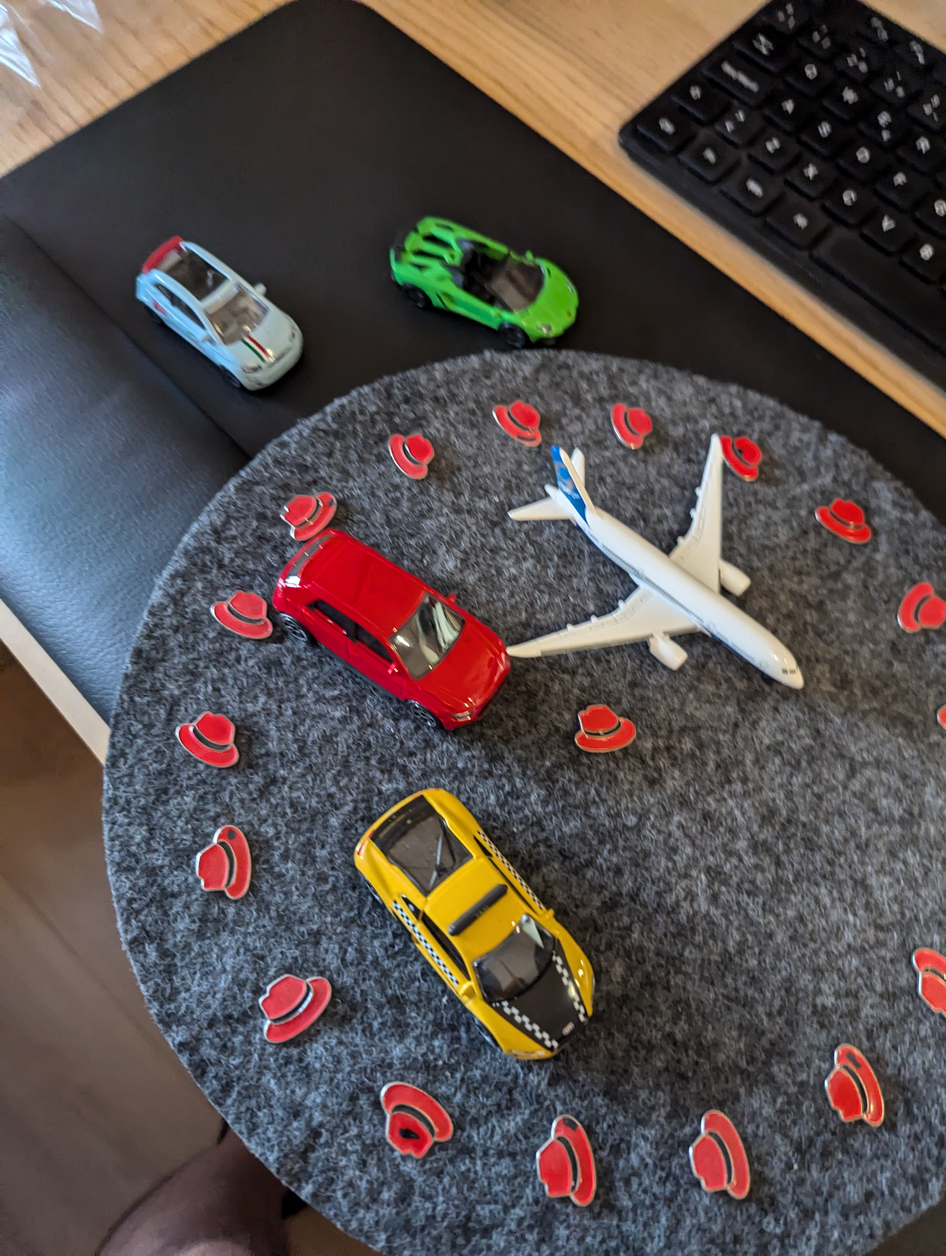Airplane: (473, 428, 822, 703)
Car: (323, 776, 681, 1065), (243, 518, 516, 729), (376, 192, 612, 372), (129, 220, 334, 412)
Red-Hat: (512, 1084, 620, 1219), (798, 1022, 907, 1147), (676, 1077, 773, 1214), (358, 1064, 471, 1177), (237, 957, 355, 1050), (175, 800, 281, 902), (556, 689, 680, 766), (168, 695, 255, 784), (269, 475, 364, 549), (192, 586, 288, 657), (797, 483, 895, 549), (594, 394, 675, 471), (478, 389, 558, 465), (371, 418, 446, 483), (883, 572, 946, 642), (896, 930, 946, 1016), (701, 421, 767, 484)
Scratch: (381, 1111, 433, 1149), (552, 1103, 594, 1147), (834, 1040, 876, 1076), (315, 487, 358, 514), (212, 819, 254, 844), (509, 428, 550, 449), (730, 439, 755, 465)
